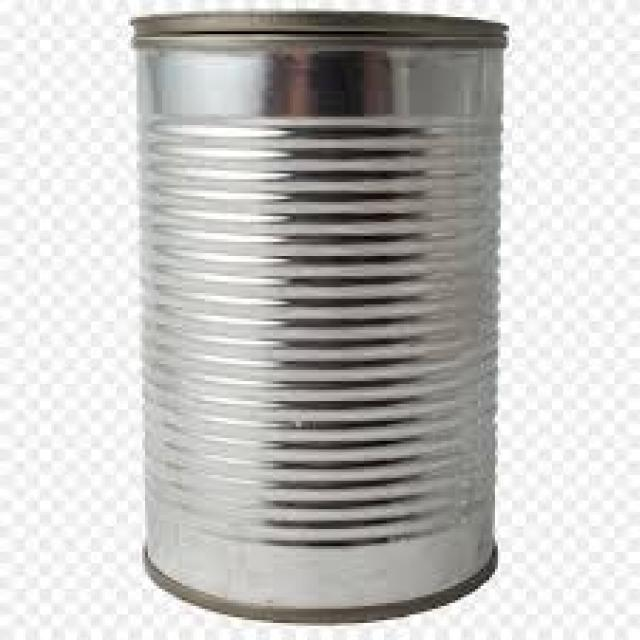kim_loai: (131, 6, 509, 629)
